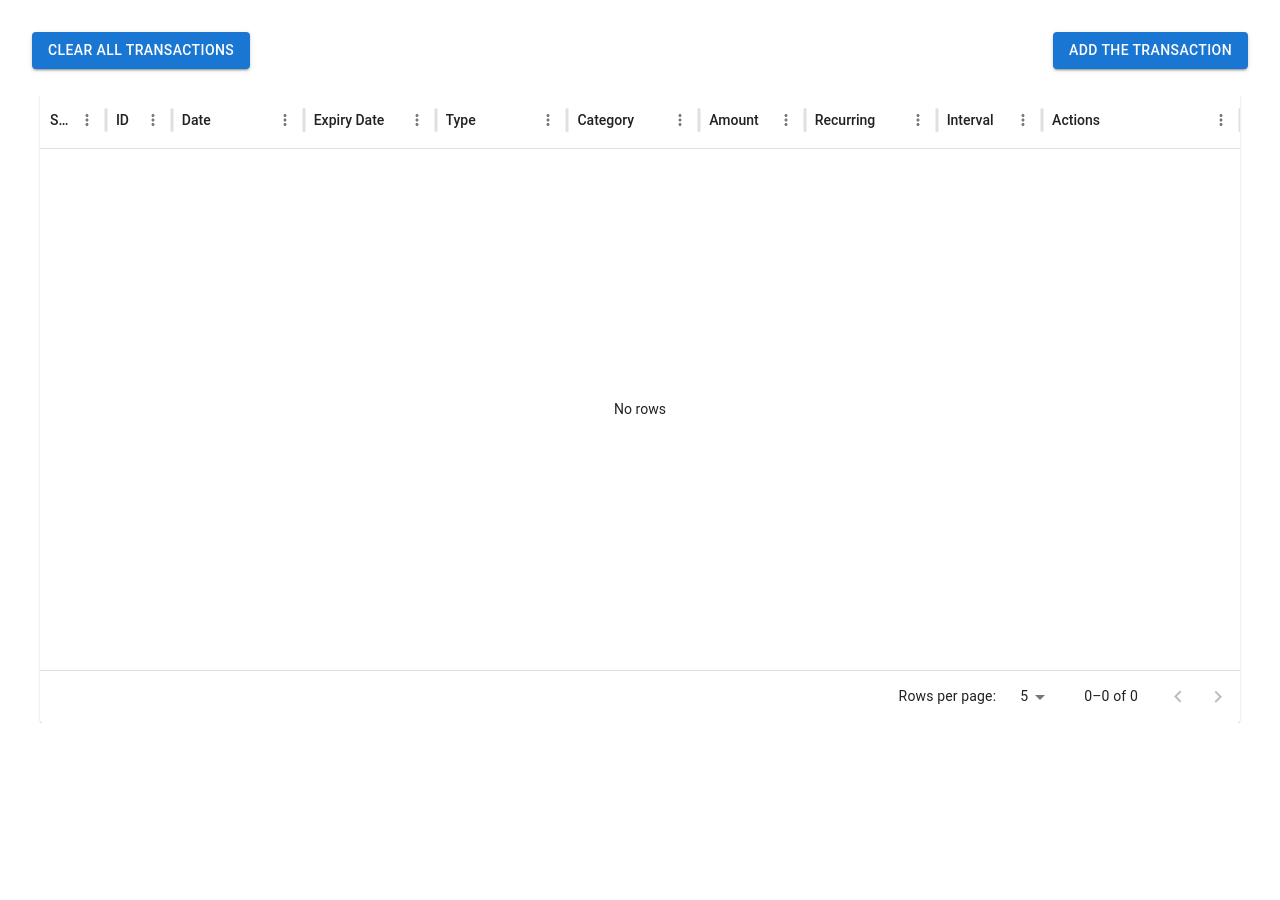
Test: Dashboard Component › Get the button and Transactionform
This screenshot has width=1280, height=900.
Step 1. Click the button "Add the transaction" → (1151, 50), box [1053,32,1248,68]
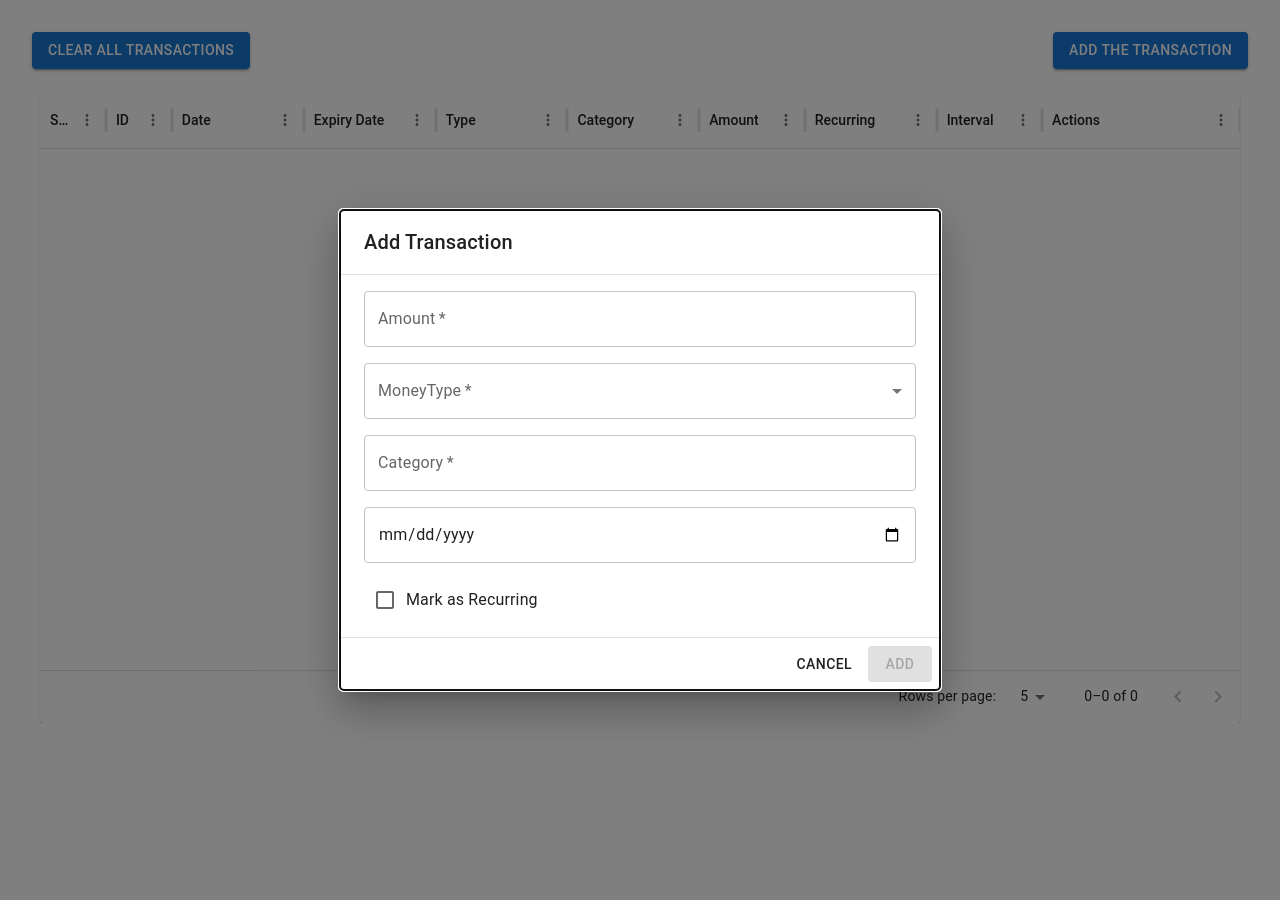
Result: the heading "Add Transaction" is shown at [364,230,513,254]
Step 2. Click the button "Cancel" → (824, 664), box [788,646,860,682]
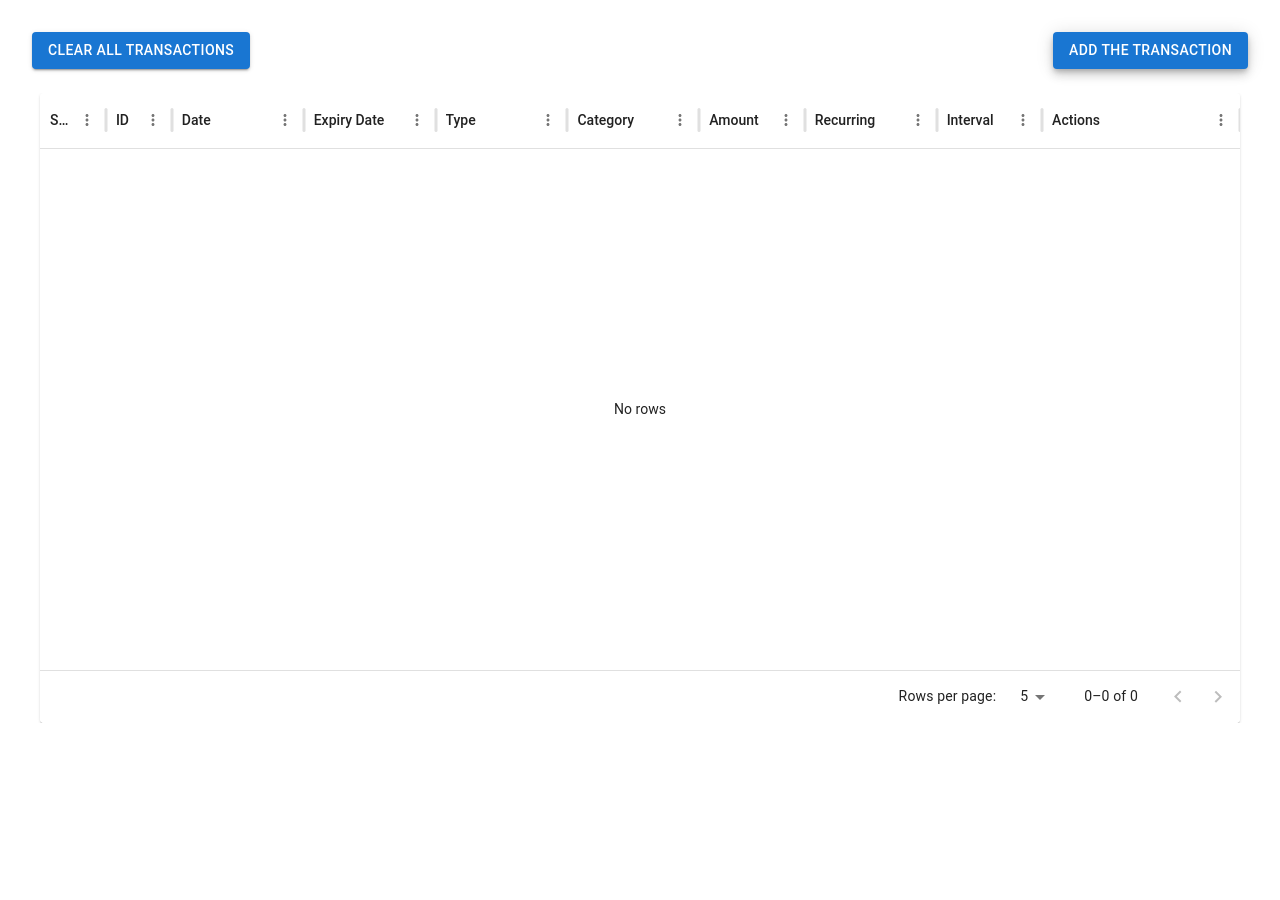
Result: the heading "Add Transaction" is gone
